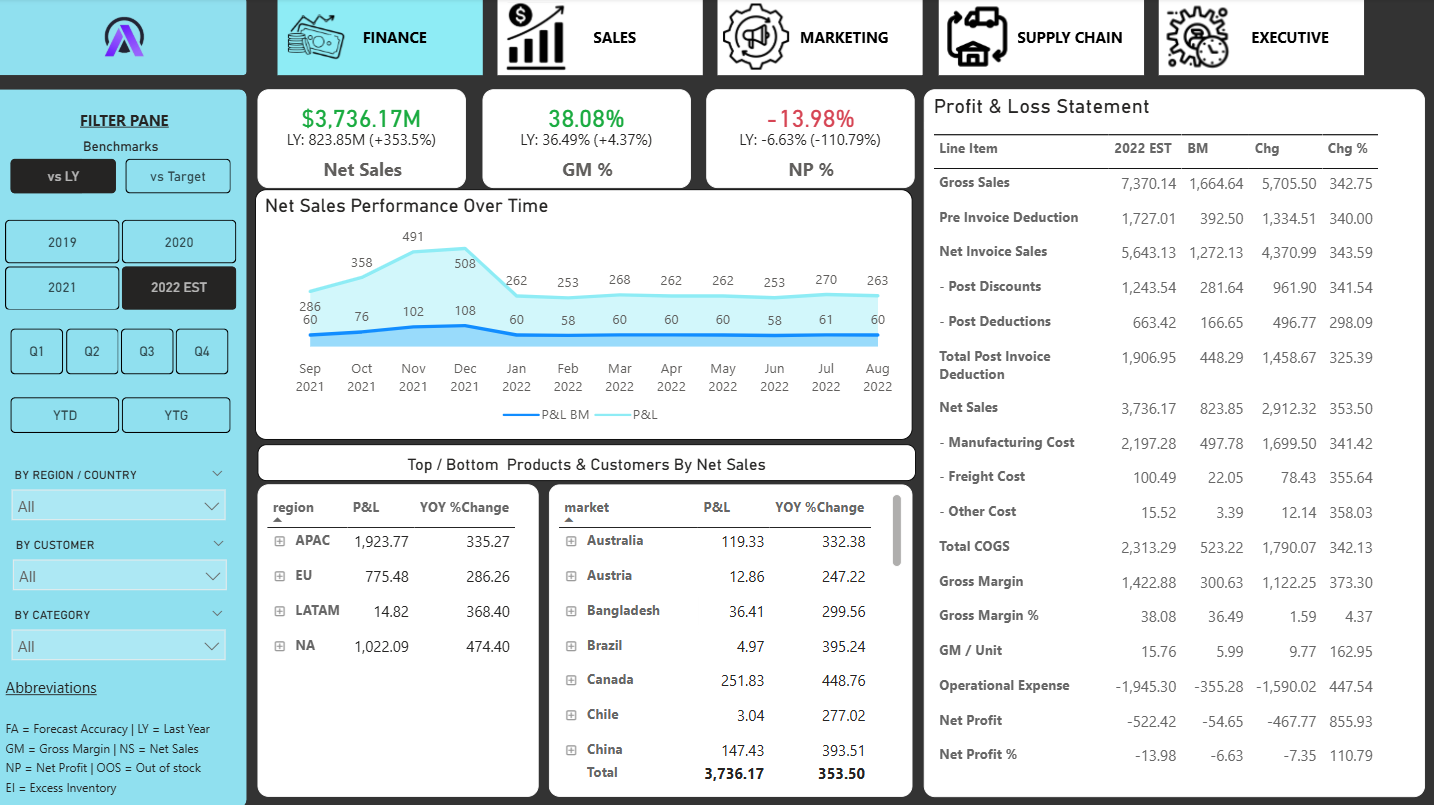

Layout of this report page (visuals, bound fields, positions):
{"tool":"powerbi","page":{"name":"Finance View","canvas":[1280,720],"ordinal":1},"visuals":[{"type":"shape","box":[0,81,219.6,639.3],"z":0},{"type":"shape","box":[0,0,219.6,68.7],"z":1000},{"type":"pivotTable","title":"Profit & Loss Statement","fields":{"Rows":["P&L Rows.Line Item"],"Columns":["P & L Columns.Col Header"],"Values":["Measures_table.P & L Final Value"]},"box":[822.1,81,446.6,630.7],"z":2000},{"type":"areaChart","fields":{"Category":["dim_date.Date"],"Y":["Measures_table.P&L BM","Measures_table.P&L"]},"box":[227,170.6,585.3,223.3],"z":3000},{"type":"pivotTable","fields":{"Values":["Measures_table.P&L","Measures_table.YOY %Change"],"Rows":["dim_market.region","dim_product.segment","dim_product.category","dim_product.product"]},"box":[229.4,433.1,250.3,278.5],"z":4000},{"type":"image","box":[1.2,0,219.6,68.7],"z":5000},{"type":"kpi","fields":{"Indicator":["Measures_table.NS $"],"TrendLine":["dim_date.fiscal_year"],"Goal":["Measures_table.NS BM"]},"box":[229.4,81,185.3,88.3],"z":6000},{"type":"kpi","fields":{"Indicator":["Measures_table.Gross Margin %"],"TrendLine":["dim_date.fiscal_year"],"Goal":["Measures_table.GM BM"]},"box":[429.5,81,185.3,88.3],"z":7000},{"type":"kpi","fields":{"Indicator":["Measures_table.Net Profit %"],"TrendLine":["dim_date.fiscal_year"],"Goal":["Measures_table.NP BM"]},"box":[629.5,81,185.3,88.3],"z":8000},{"type":"actionButton","box":[246.6,0,182.8,68.7],"z":9000},{"type":"actionButton","box":[442.9,0,182.8,68.7],"z":10000},{"type":"actionButton","box":[639.3,0,182.8,68.7],"z":11000},{"type":"actionButton","box":[1031.9,0,182.8,68.7],"z":12000},{"type":"actionButton","box":[835.6,0,182.8,68.7],"z":13000},{"type":"card","fields":{"Values":["Measures_table.Top/ Bottom title"]},"box":[229.4,397.5,586.5,33.1],"z":14000},{"type":"slicer","fields":{"Values":["dim_market.region","dim_market.market"]},"box":[0,413.2,211,56.4],"z":15000},{"type":"slicer","fields":{"Values":["dim_customer.customer"]},"box":[1.2,475.4,211,56.4],"z":16000},{"type":"slicer","fields":{"Values":["dim_product.category"]},"box":[0,537.7,211,56.4],"z":17000},{"type":"textbox","box":[262.6,136.2,120.2,33.1],"z":18000},{"type":"textbox","box":[462.6,136.2,120.2,33.1],"z":19000},{"type":"textbox","box":[662.6,136.2,120.2,33.1],"z":20000},{"type":"textbox","box":[45.4,94.5,130.1,30.7],"z":21000},{"type":"advancedSlicerVisual","fields":{"Values":["fiscal_year.fy_desc"]},"box":[4.9,192.8,206,90.8],"z":22000},{"type":"advancedSlicerVisual","fields":{"Values":["dim_date.fiscal_quarter"]},"box":[4.9,289.6,206.1,51.5],"z":23000},{"type":"advancedSlicerVisual","fields":{"Values":["dim_date.ytd_ytg"]},"box":[4.9,350.9,206.1,42.9],"z":24000},{"type":"textbox","box":[0,599.8,219.6,120.2],"z":25000},{"type":"pivotTable","fields":{"Rows":["dim_market.market","dim_customer.customer"],"Values":["Measures_table.P&L","Measures_table.YOY %Change"]},"box":[488.3,433.1,323.9,278.5],"z":26000},{"type":"advancedSlicerVisual","fields":{"Values":["Select Benchmark.Benchmarks"]},"box":[4.9,125.2,206.1,55.2],"z":27000}]}

Visuals, with their boxes in screenshot pixels (x1, y1, x2, y2), scaled from the page's 1280x720 canvas onto the 1434x805 screenshot:
shape: [left=0, top=91, right=246, bottom=804]
shape: [left=0, top=0, right=246, bottom=77]
"Profit & Loss Statement" pivotTable: [left=921, top=91, right=1421, bottom=796]
areaChart - dim_date.Date x Measures_table.P&L BM: [left=254, top=191, right=910, bottom=440]
pivotTable - Measures_table.P&L x Measures_table.YOY %Change: [left=257, top=484, right=537, bottom=796]
image: [left=1, top=0, right=247, bottom=77]
kpi - Measures_table.NS $ x dim_date.fiscal_year: [left=257, top=91, right=465, bottom=189]
kpi - Measures_table.Gross Margin % x dim_date.fiscal_year: [left=481, top=91, right=689, bottom=189]
kpi - Measures_table.Net Profit % x dim_date.fiscal_year: [left=705, top=91, right=913, bottom=189]
actionButton: [left=276, top=0, right=481, bottom=77]
actionButton: [left=496, top=0, right=701, bottom=77]
actionButton: [left=716, top=0, right=921, bottom=77]
actionButton: [left=1156, top=0, right=1361, bottom=77]
actionButton: [left=936, top=0, right=1141, bottom=77]
card - Measures_table.Top/ Bottom title: [left=257, top=444, right=914, bottom=481]
slicer - dim_market.region x dim_market.market: [left=0, top=462, right=236, bottom=525]
slicer - dim_customer.customer: [left=1, top=532, right=238, bottom=595]
slicer - dim_product.category: [left=0, top=601, right=236, bottom=664]
textbox: [left=294, top=152, right=429, bottom=189]
textbox: [left=518, top=152, right=653, bottom=189]
textbox: [left=742, top=152, right=877, bottom=189]
textbox: [left=51, top=106, right=197, bottom=140]
advancedSlicerVisual - fiscal_year.fy_desc: [left=5, top=216, right=236, bottom=317]
advancedSlicerVisual - dim_date.fiscal_quarter: [left=5, top=324, right=236, bottom=381]
advancedSlicerVisual - dim_date.ytd_ytg: [left=5, top=392, right=236, bottom=440]
textbox: [left=0, top=671, right=246, bottom=804]
pivotTable - dim_market.market x dim_customer.customer: [left=547, top=484, right=910, bottom=796]
advancedSlicerVisual - Select Benchmark.Benchmarks: [left=5, top=140, right=236, bottom=202]
